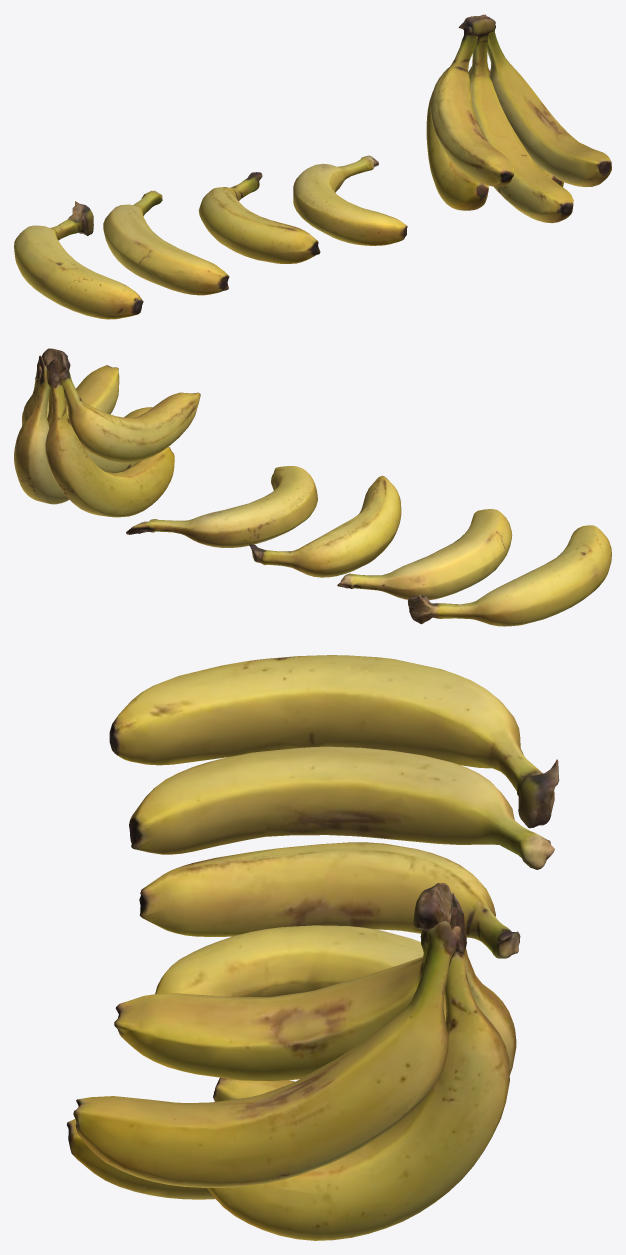
The model's file is PH-bananas.glb.
3 views of the same model, one above another, from view 1: azimuth 30°, elevation 25°; view 2: azimuth 150°, elevation 25°; view 3: azimuth 270°, elevation 25° (orthographic). The views are drawn at different scales.
Visible parts, largest first — view 1: bananas_bunch, bananas_d, bananas_c, bananas_a, bananas_b; view 2: bananas_bunch, bananas_d, bananas_c, bananas_a, bananas_b; view 3: bananas_bunch, bananas_d, bananas_c, bananas_b, bananas_a.
Part boxes in pixels (x1=…): bananas_bunch: x1=426, y1=14, x2=611, y2=223; bananas_d: x1=14, y1=201, x2=143, y2=319; bananas_c: x1=103, y1=190, x2=229, y2=295; bananas_a: x1=293, y1=155, x2=407, y2=245; bananas_b: x1=198, y1=172, x2=320, y2=263; bananas_bunch: x1=14, y1=348, x2=200, y2=517; bananas_d: x1=408, y1=525, x2=611, y2=626; bananas_c: x1=337, y1=509, x2=512, y2=600; bananas_a: x1=126, y1=466, x2=317, y2=547; bananas_b: x1=249, y1=475, x2=401, y2=577; bananas_bunch: x1=67, y1=883, x2=516, y2=1240; bananas_d: x1=109, y1=655, x2=559, y2=828; bananas_c: x1=129, y1=746, x2=554, y2=869; bananas_b: x1=139, y1=842, x2=520, y2=958; bananas_a: x1=155, y1=925, x2=423, y2=996.
Size of the model in its own units: 0.6 by 0.1787 by 0.2441.
1 material, 1 textured.
